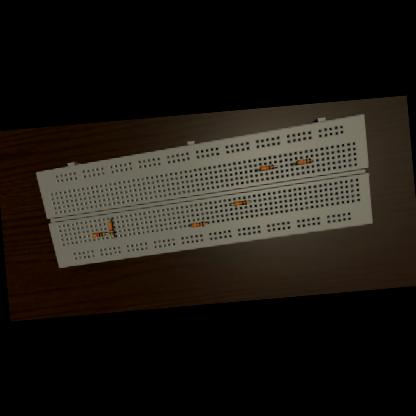breadboard: (32, 113, 374, 270)
resistor: (296, 158, 312, 164), (107, 221, 114, 234), (232, 199, 247, 205), (258, 165, 273, 171), (91, 232, 105, 238), (190, 221, 204, 227)
wire: (290, 162, 296, 165), (108, 218, 112, 221), (254, 168, 260, 170), (110, 236, 115, 238), (105, 232, 109, 234), (204, 221, 208, 223), (188, 224, 190, 225), (248, 201, 250, 202), (311, 159, 313, 160), (229, 204, 232, 204), (274, 166, 276, 166)
